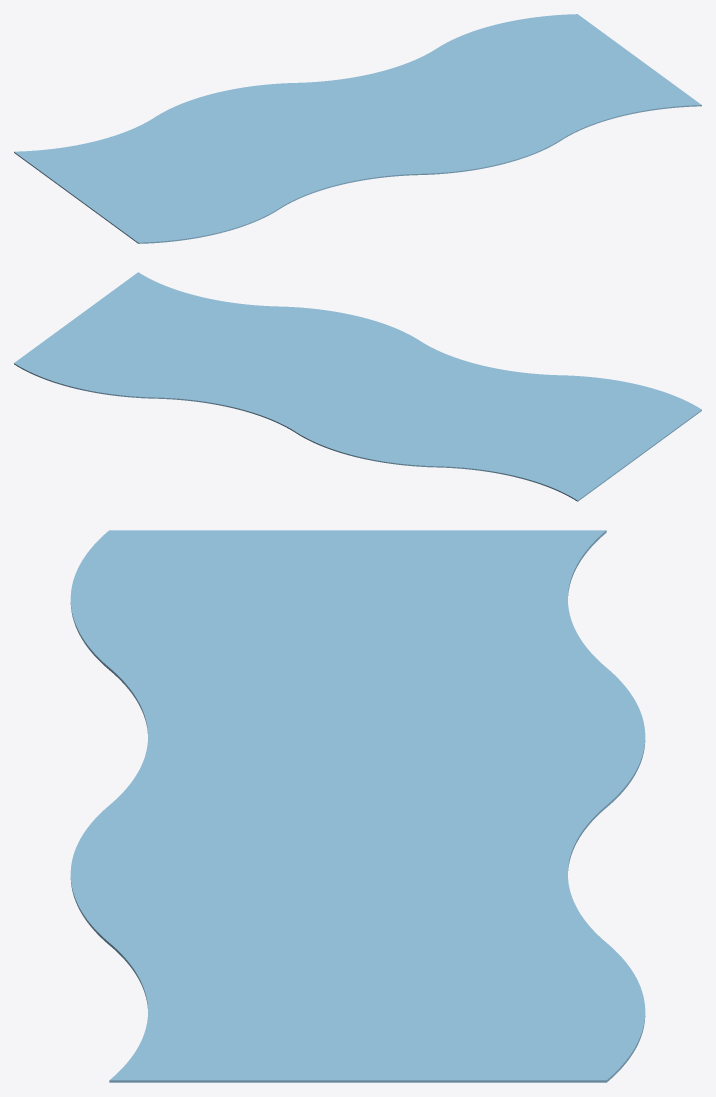
File: Chicane.dae
3 views of the same model, one above another, from view 1: azimuth 30°, elevation 25°; view 2: azimuth 150°, elevation 25°; view 3: azimuth 270°, elevation 25° (orthographic). The views are drawn at different scales.
Parts seen in each view (by area): view 1: 5e2a0284bb7d1715bfcf8606; view 2: 5e2a0284bb7d1715bfcf8606; view 3: 5e2a0284bb7d1715bfcf8606.
Part boxes in pixels (box(x1,y1,x2,y2)): 5e2a0284bb7d1715bfcf8606: box(14, 14, 701, 243); 5e2a0284bb7d1715bfcf8606: box(14, 272, 701, 501); 5e2a0284bb7d1715bfcf8606: box(70, 530, 645, 1082).
Bounding box in the file's own units: 1.44 × 0.6355 × 0.003.
